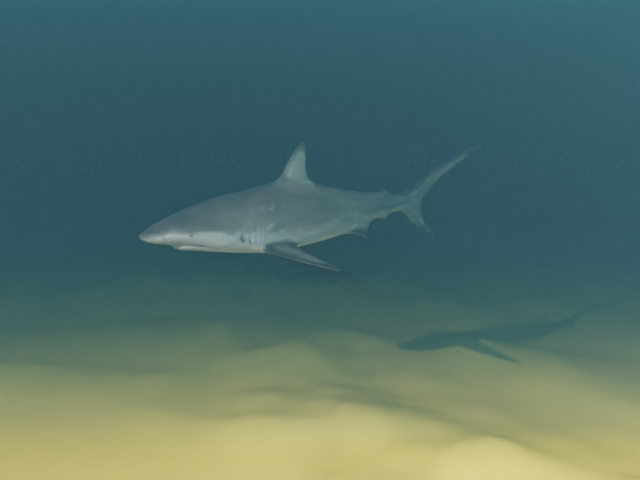Carribean Shark.001: (138, 141, 480, 271)
